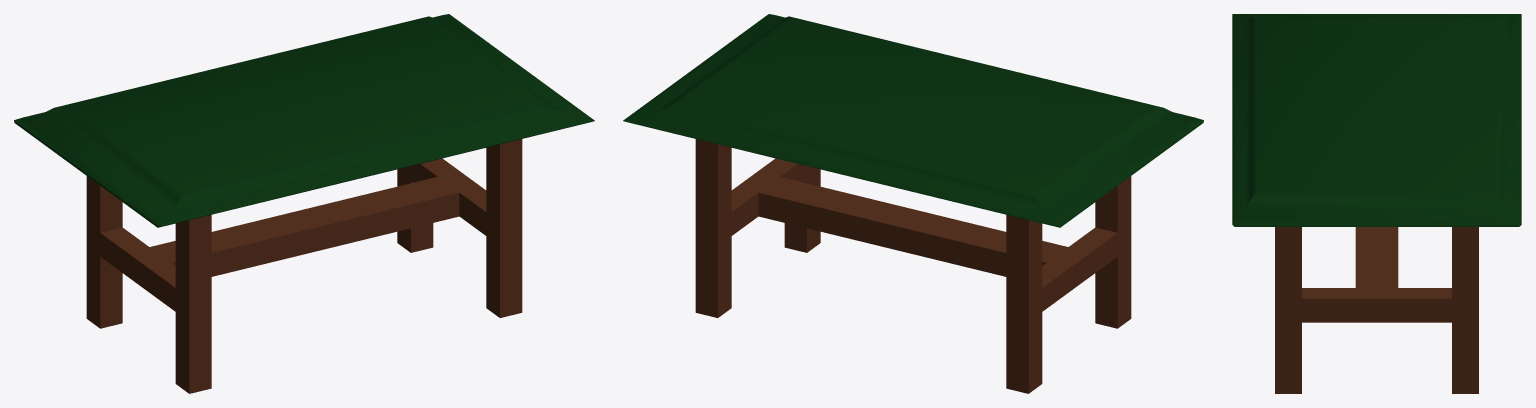
The model's file is table19.fbx.
3 renders of one model, left to right at view 1: azimuth 30°, elevation 25°; view 2: azimuth 150°, elevation 25°; view 3: azimuth 270°, elevation 25°, orthographic.
Visible parts, largest first — view 1: Table19; view 2: Table19; view 3: Table19.
Part boxes in pixels (x1,y1,x2,y2): Table19: (14,14,594,393); Table19: (623,14,1203,393); Table19: (1232,14,1521,393).
Size of the model in its own units: 167 by 76.56 by 96.29.
